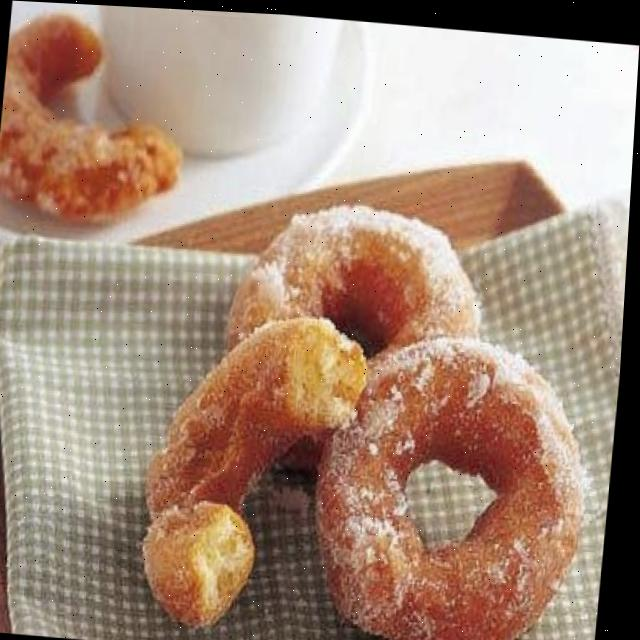炸货点心: (0, 29, 639, 640)
